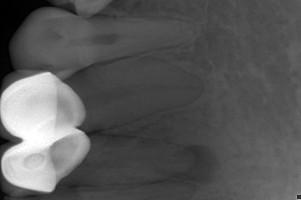Furcation Involvement: (170, 145, 219, 186)
